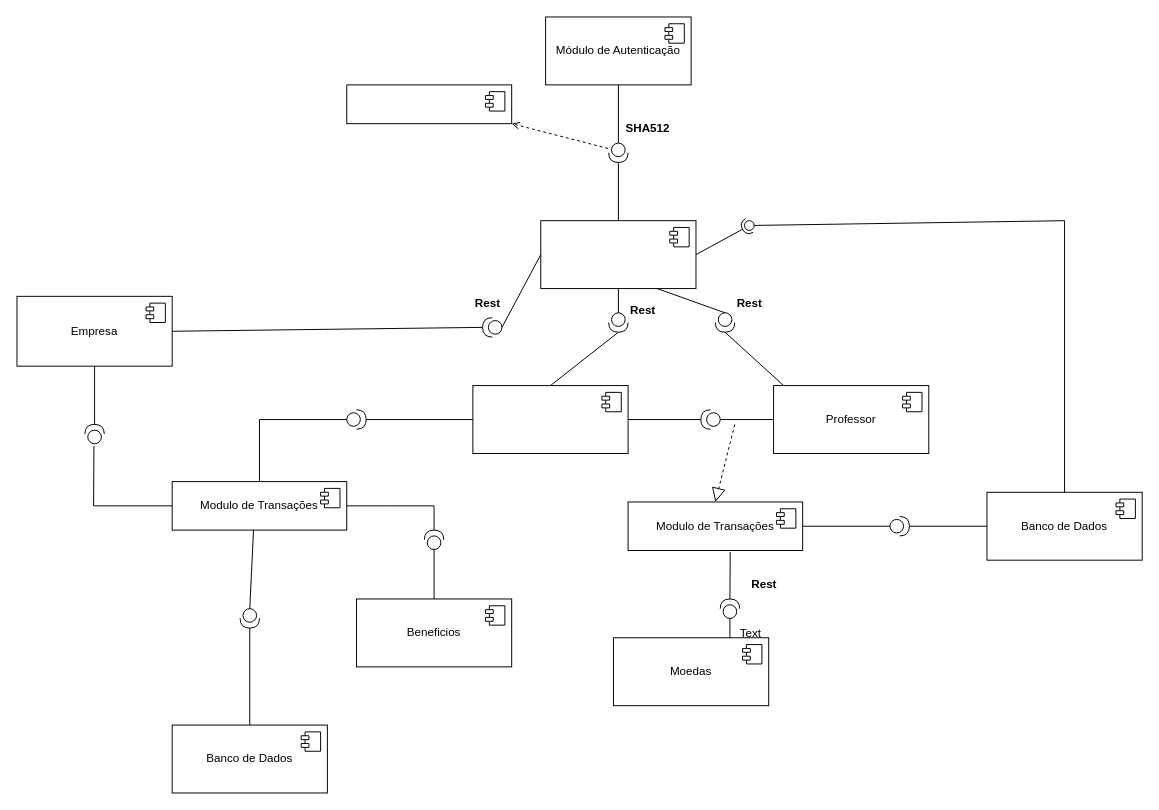
The diagram is 1159 pixels wide and 810 high, and some of its shapes have lost their labels. Each missing label, with the box of its shape:
Aluno: (472, 385, 628, 453)
AUTENTICAÇÃO: (540, 220, 696, 289)
BCRYPT: (346, 84, 512, 124)
